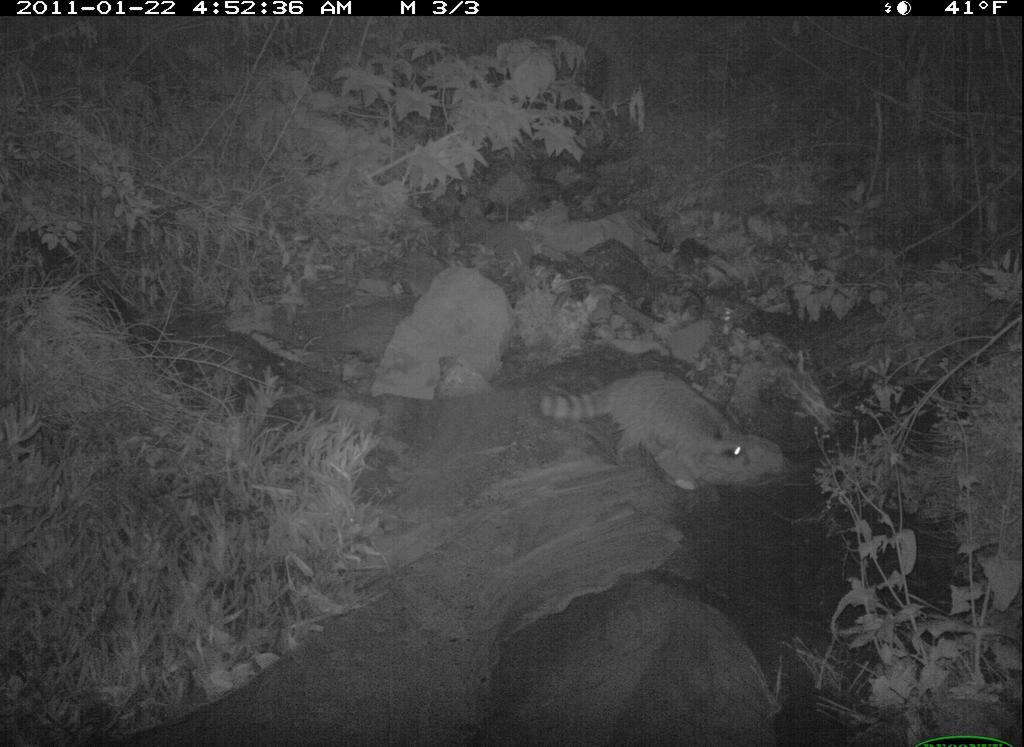raccoon: (537, 359, 772, 513)
